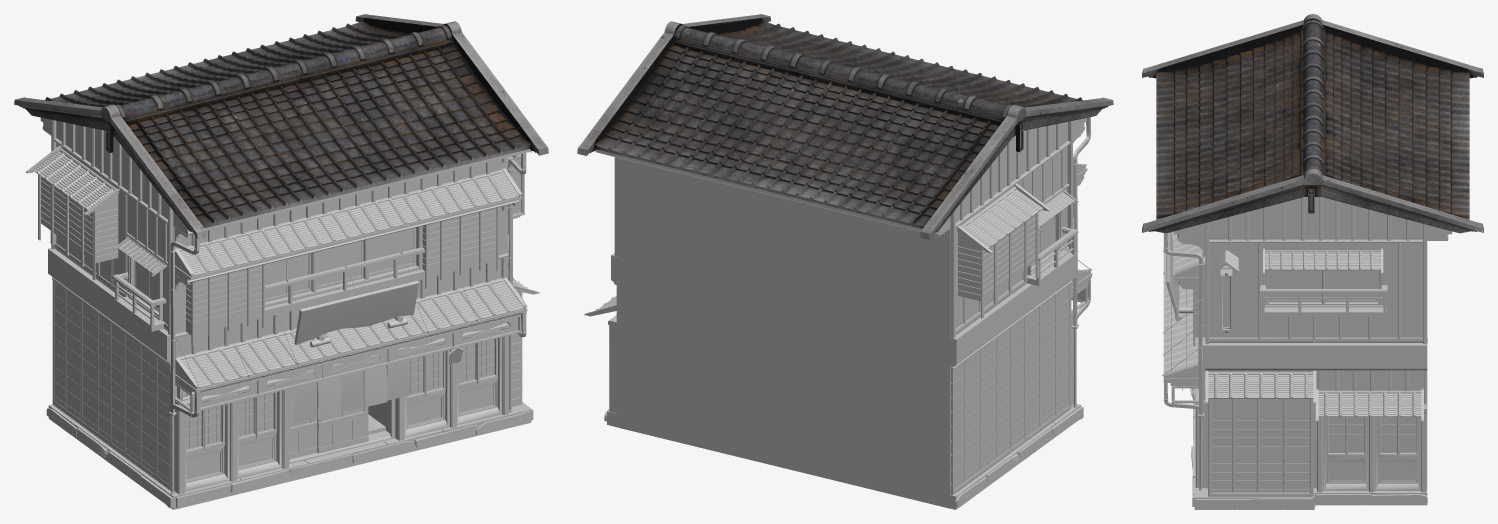
The picture shows the model from 3 angles, left to right: view 1: azimuth 30°, elevation 25°; view 2: azimuth 150°, elevation 25°; view 3: azimuth 270°, elevation 25°; orthographic projection. The views are drawn at different scales.
Visible parts, largest first — view 1: XI_JT_Bar.Shape; view 2: XI_JT_Bar.Shape; view 3: XI_JT_Bar.Shape.
Part boxes in pixels (x1,y1,x2,y2): XI_JT_Bar.Shape: [14, 14, 548, 509]; XI_JT_Bar.Shape: [577, 14, 1113, 509]; XI_JT_Bar.Shape: [1142, 14, 1483, 509].
Size of the model in its own units: 8.13 by 6.91 by 6.45.
